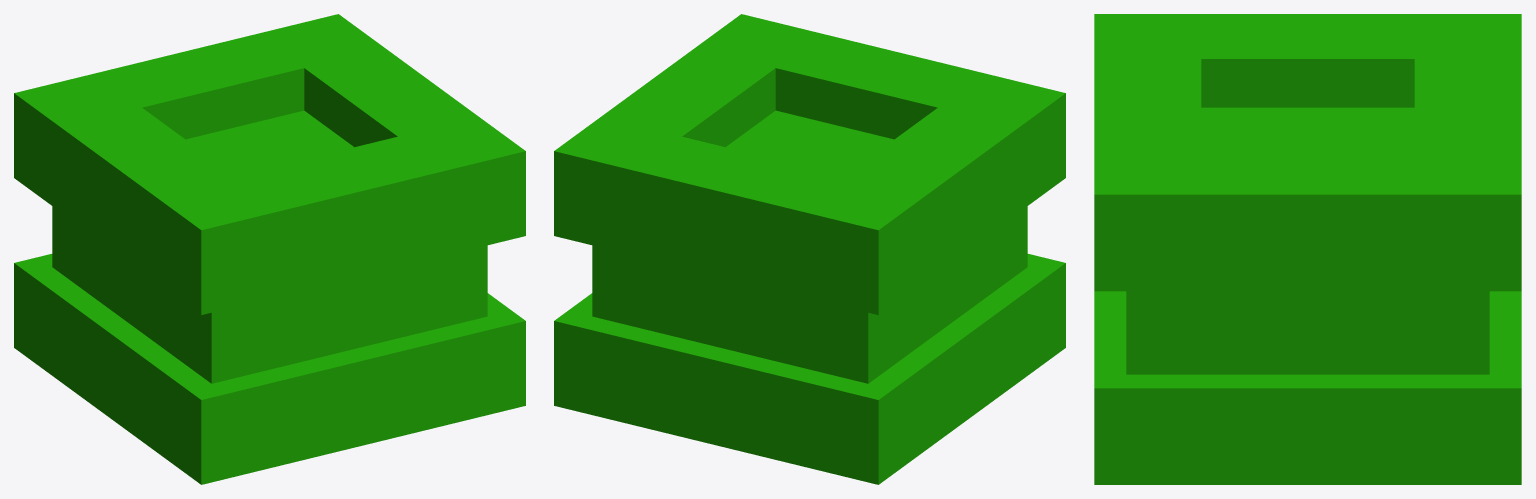
File: brazier.fbx
The picture shows the model from 3 angles, left to right: view 1: azimuth 30°, elevation 25°; view 2: azimuth 150°, elevation 25°; view 3: azimuth 270°, elevation 25°; orthographic projection. The views are drawn at different scales.
Visible parts, largest first — view 1: brazier; view 2: brazier; view 3: brazier.
Part boxes in pixels (x1,y1,x2,y2): brazier: (14,14,525,484); brazier: (554,14,1065,484); brazier: (1094,14,1521,484).
Size of the model in its own units: 0.8 by 0.6 by 0.8.
